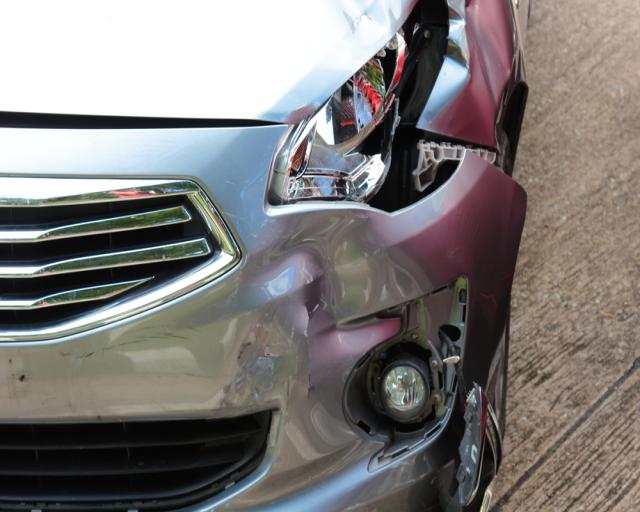dent: (229, 212, 410, 473), (430, 0, 512, 139), (335, 0, 418, 38)
lamp broken: (280, 33, 411, 203)
